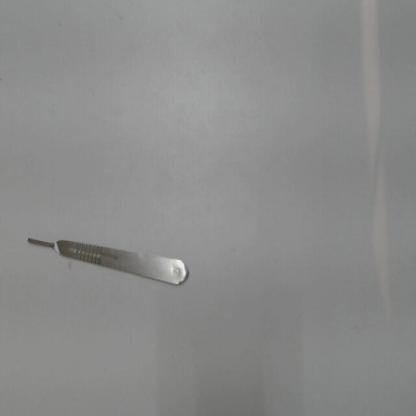No.3 BP Handle: (25, 221, 194, 302)
